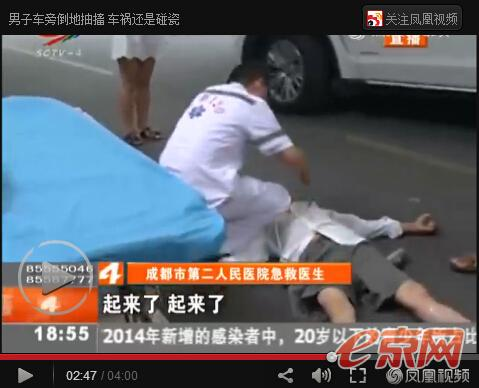fall: (258, 179, 473, 339)
